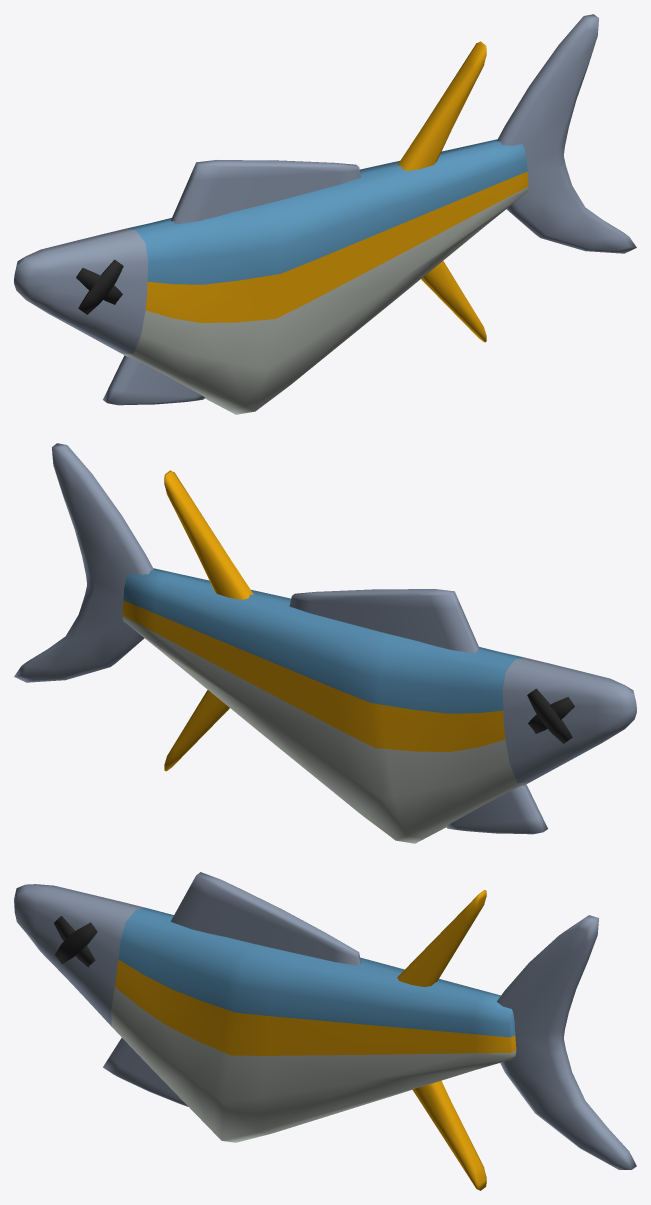
The model's file is FoodIngredient_Tuna.fbx.
The picture shows the model from 3 angles, top to bottom: view 1: azimuth 30°, elevation 25°; view 2: azimuth 150°, elevation 25°; view 3: azimuth 330°, elevation 25°; orthographic projection.
Visible parts, largest first — view 1: FoodIngredient_Tuna; view 2: FoodIngredient_Tuna; view 3: FoodIngredient_Tuna.
Part boxes in pixels (box(x1,y1,x2,y2)): FoodIngredient_Tuna: box(14, 14, 636, 414); FoodIngredient_Tuna: box(14, 443, 636, 843); FoodIngredient_Tuna: box(14, 872, 636, 1190).
Bounding box in the file's own units: 156 × 75.05 × 19.63.
